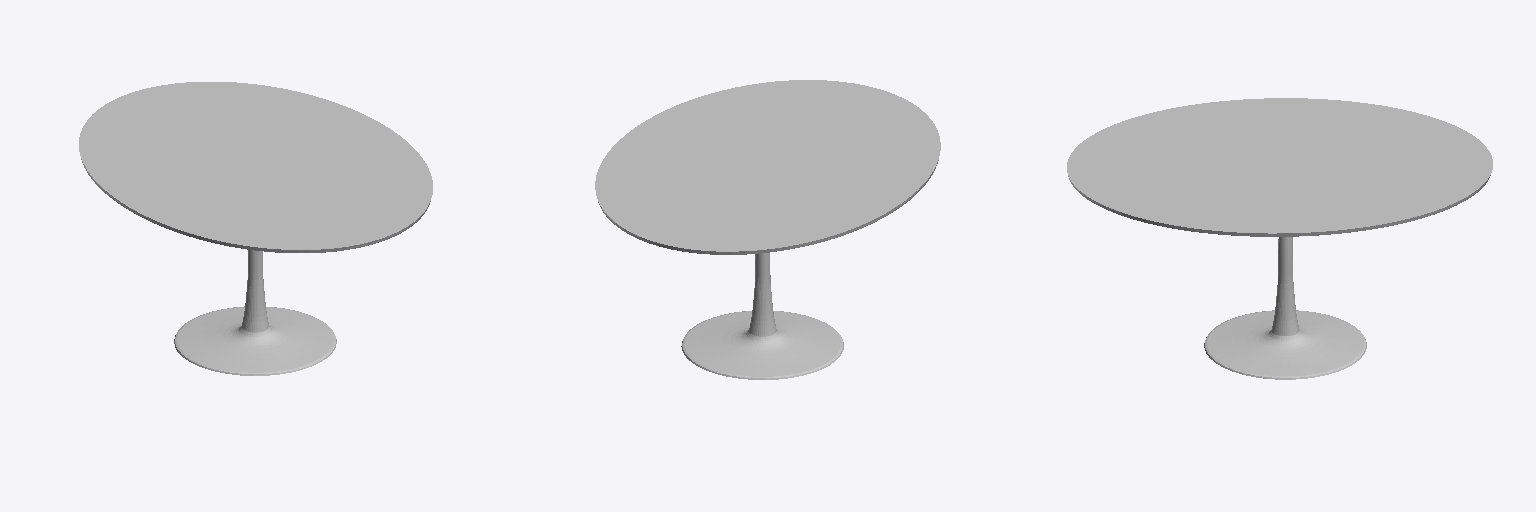
File: table.obj
3 views of the same model, side by side, from view 1: azimuth 30°, elevation 25°; view 2: azimuth 150°, elevation 25°; view 3: azimuth 270°, elevation 25° (orthographic).
Visible parts, largest first — view 1: tableChair, pCylinder1; view 2: tableChair, pCylinder1; view 3: tableChair, pCylinder1.
Part boxes in pixels (left/top/right/bottom): tableChair: left=79, top=82, right=432, bottom=252; pCylinder1: left=174, top=250, right=336, bottom=375; tableChair: left=595, top=80, right=940, bottom=254; pCylinder1: left=681, top=253, right=843, bottom=379; tableChair: left=1067, top=98, right=1492, bottom=236; pCylinder1: left=1204, top=237, right=1366, bottom=379.
Bounding box in the file's own units: 39.08 × 24.27 × 52.01.